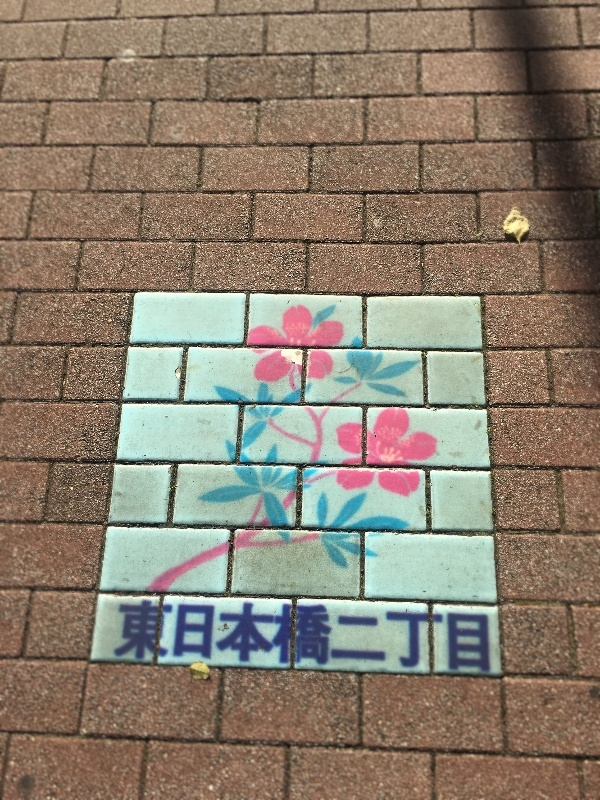text: (129, 599, 144, 671), (145, 599, 160, 671), (161, 599, 176, 671), (177, 599, 192, 671), (193, 599, 208, 671), (209, 599, 224, 671), (225, 599, 240, 671), (241, 599, 256, 671), (257, 599, 272, 671), (273, 599, 288, 671), (289, 599, 304, 671), (305, 599, 320, 671), (321, 599, 336, 671), (337, 599, 352, 671), (353, 599, 368, 671), (369, 599, 384, 671), (385, 599, 400, 671), (401, 599, 416, 671), (417, 599, 432, 671), (433, 599, 448, 671), (449, 599, 464, 671), (465, 599, 480, 671), (481, 599, 491, 671), (120, 599, 128, 671)
